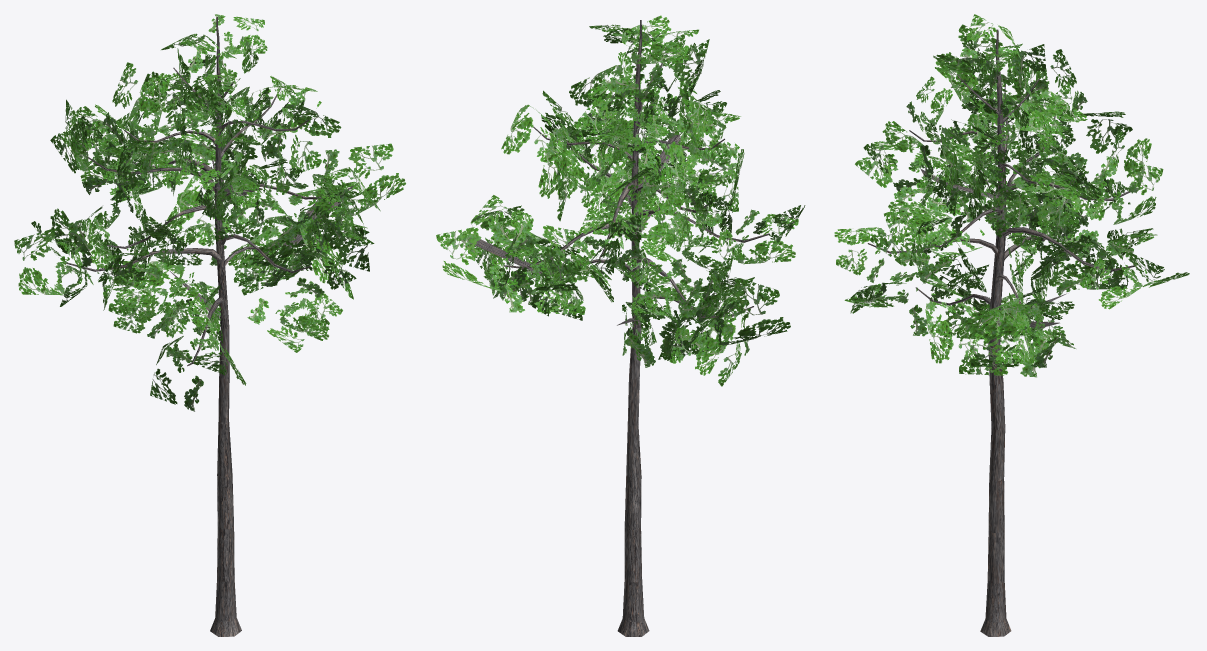
File: test_次表面.glb
3 views of the same model, side by side, from view 1: azimuth 30°, elevation 25°; view 2: azimuth 150°, elevation 25°; view 3: azimuth 270°, elevation 25° (orthographic). The views are drawn at different scales.
Visible parts, largest first — view 1: tall_tree_leaf.055; view 2: tall_tree_leaf.055; view 3: tall_tree_leaf.055.
Part boxes in pixels (<box>): tall_tree_leaf.055: <box>14,14,405,636</box>; tall_tree_leaf.055: <box>436,15,805,636</box>; tall_tree_leaf.055: <box>834,14,1189,636</box>.
Bounding box in the file's own units: 5.84 × 10.18 × 5.53.
1 material, 1 textured.
